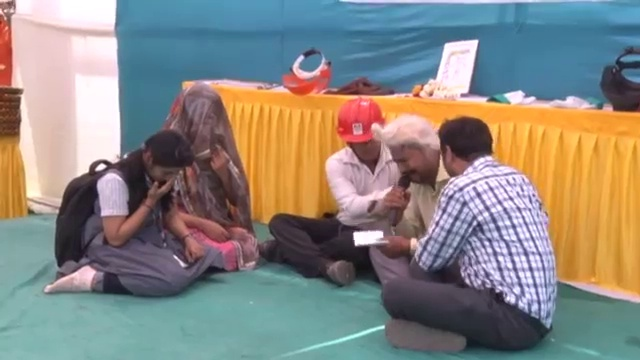helmet: (334, 95, 385, 148)
helmet_off: (172, 85, 230, 167), (437, 114, 498, 188), (385, 116, 439, 189), (129, 129, 194, 187)
helmet_on: (334, 95, 385, 167)
person: (379, 108, 559, 357), (39, 130, 230, 299), (265, 90, 408, 276), (159, 82, 255, 275), (373, 111, 458, 275)
